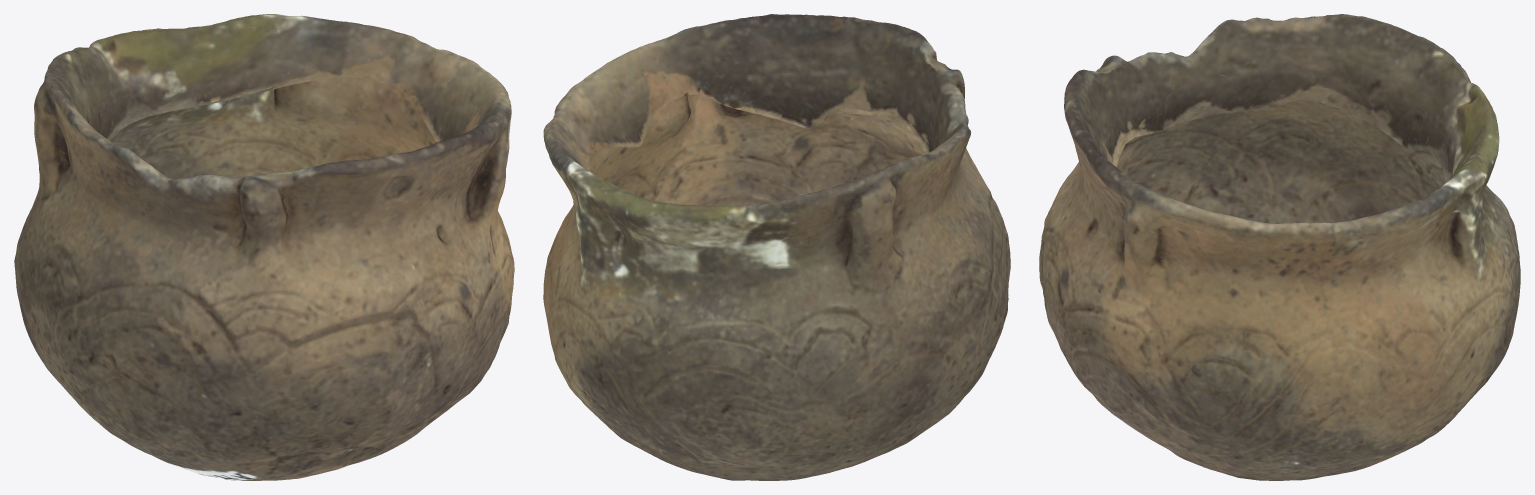
The model's file is Ark_HM_758_HI.glb.
The picture shows the model from 3 angles, left to right: view 1: azimuth 30°, elevation 25°; view 2: azimuth 150°, elevation 25°; view 3: azimuth 270°, elevation 25°; orthographic projection. The views are drawn at different scales.
Bounding box in the file's own units: 0.4883 × 0.4014 × 0.4992.
Materials: 1 (1 with a texture image).
